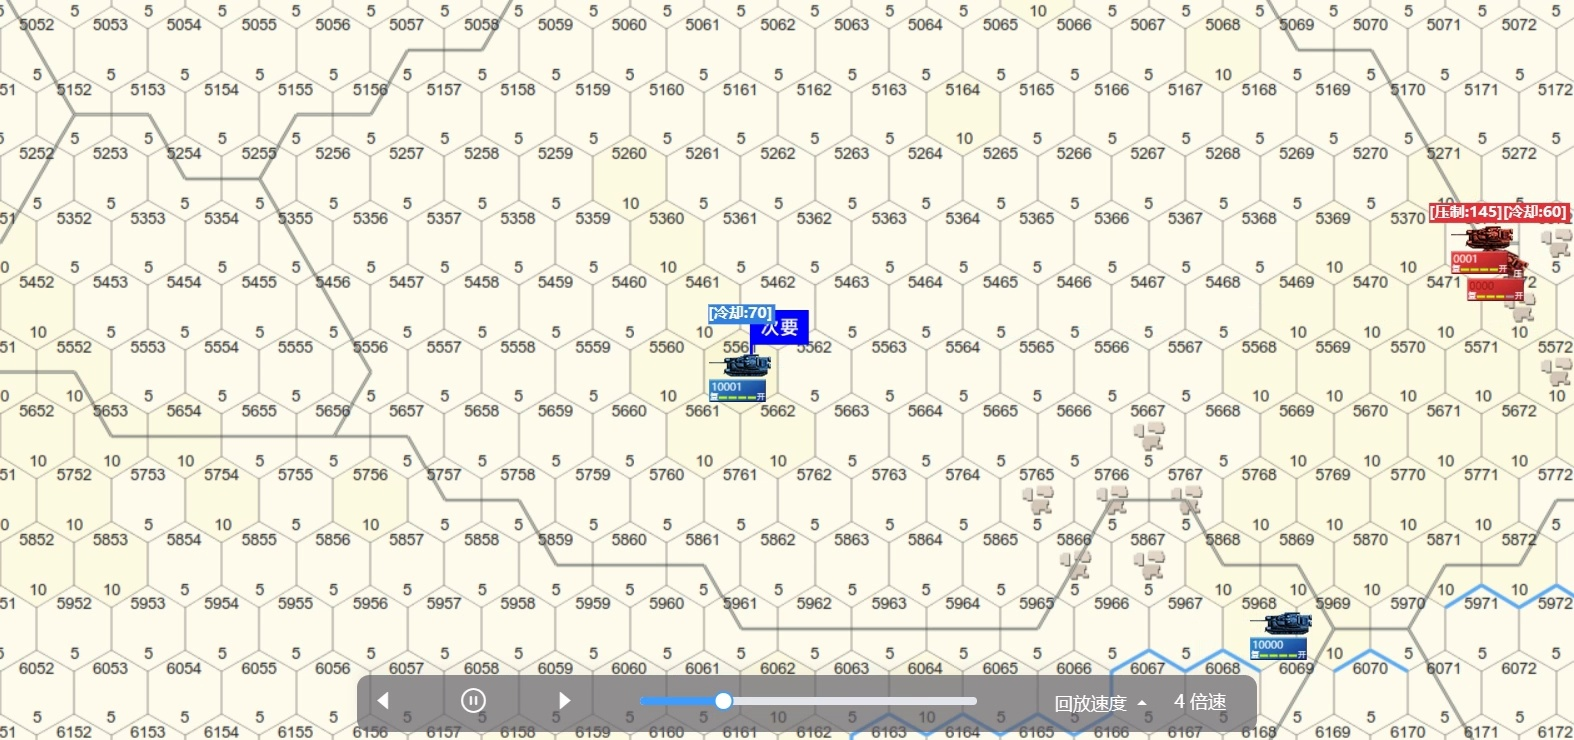blue_tank: (1248, 609, 1314, 653), (712, 352, 771, 397)
red_tank: (1453, 232, 1518, 276), (1479, 267, 1526, 304)
